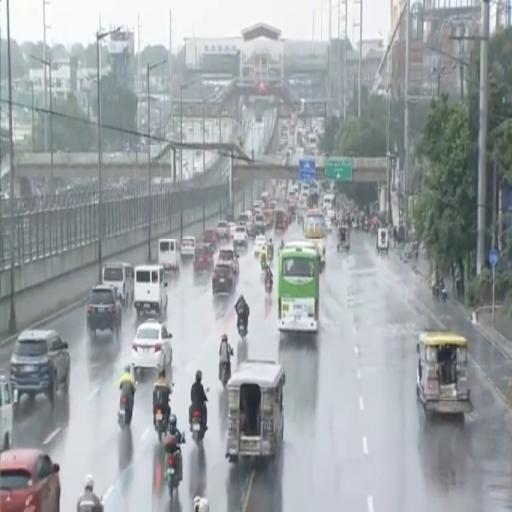bus: (278, 247, 320, 332), (303, 208, 326, 265)
car: (10, 330, 70, 404), (0, 448, 61, 511), (132, 320, 172, 371), (87, 285, 122, 338), (0, 376, 13, 451), (212, 263, 236, 294), (194, 244, 213, 273), (219, 249, 239, 275), (233, 226, 248, 250), (180, 236, 196, 258), (202, 229, 218, 249), (254, 213, 266, 235), (254, 235, 267, 255), (216, 220, 229, 239), (228, 222, 236, 239), (325, 217, 332, 232), (325, 210, 335, 219), (252, 201, 260, 210)
jeepney: (226, 360, 285, 462), (417, 331, 473, 414), (263, 208, 273, 228)
motorcycle: (165, 445, 182, 505), (118, 394, 133, 429), (191, 409, 205, 445), (192, 410, 205, 445), (155, 407, 167, 441), (433, 284, 447, 302), (237, 315, 247, 339), (265, 277, 272, 293), (260, 259, 267, 270), (268, 246, 273, 261), (230, 350, 233, 356)
